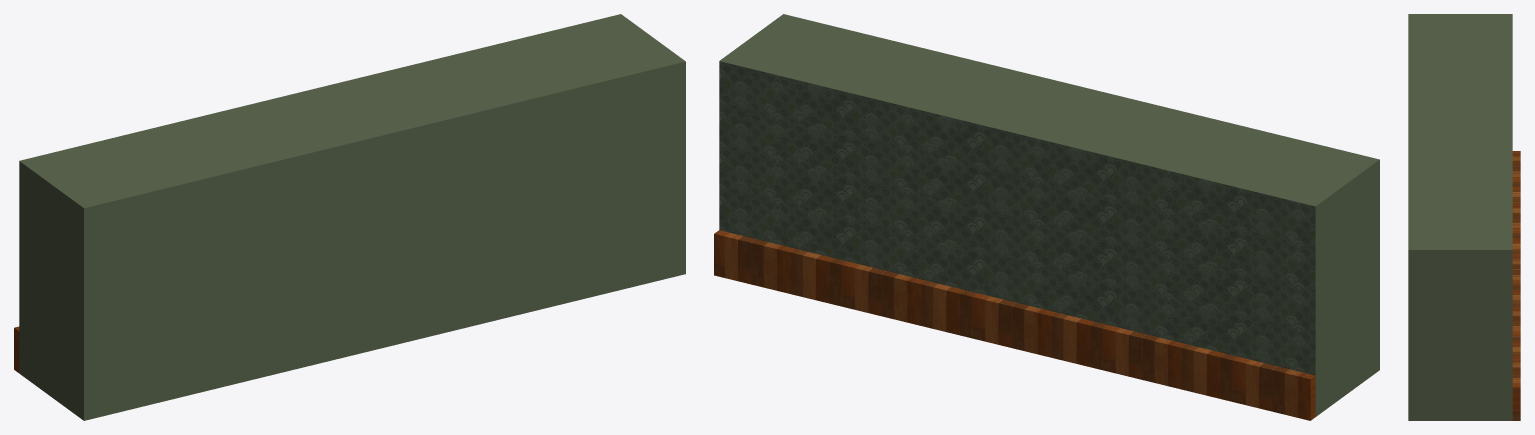
File: DiningRoomRightWall.fbx
The picture shows the model from 3 angles, left to right: view 1: azimuth 30°, elevation 25°; view 2: azimuth 150°, elevation 25°; view 3: azimuth 270°, elevation 25°; orthographic projection. The views are drawn at different scales.
Parts seen in each view (by area): view 1: Pilars.001; view 2: Pilars.001; view 3: Pilars.001.
Part boxes in pixels (x1,y1,x2,y2): Pilars.001: (14, 14, 685, 420); Pilars.001: (714, 14, 1379, 420); Pilars.001: (1408, 14, 1520, 420).
Bounding box in the file's own units: 7613 × 2570 × 1534.
